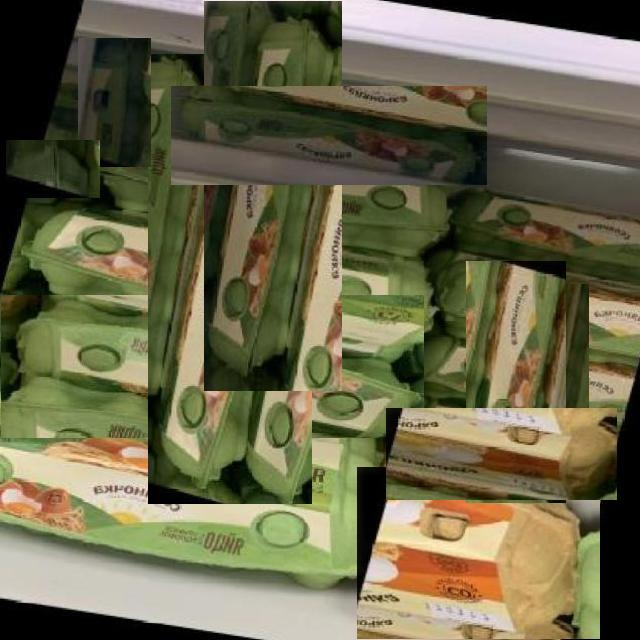Egg: (0, 380, 416, 595), (149, 53, 312, 504), (0, 295, 424, 438), (204, 0, 342, 391), (356, 467, 600, 639), (171, 86, 487, 185), (474, 202, 589, 418), (467, 260, 566, 503), (385, 408, 617, 500), (447, 185, 639, 284), (79, 38, 151, 167), (6, 140, 100, 198)
